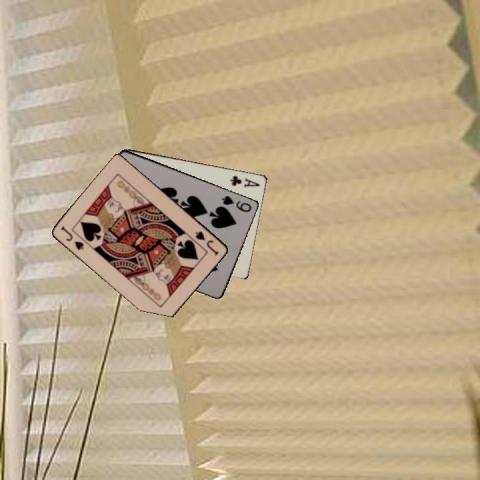9s: (219, 193, 253, 213)
Ac: (228, 172, 262, 188)
Js: (192, 228, 221, 257), (58, 223, 85, 251)
